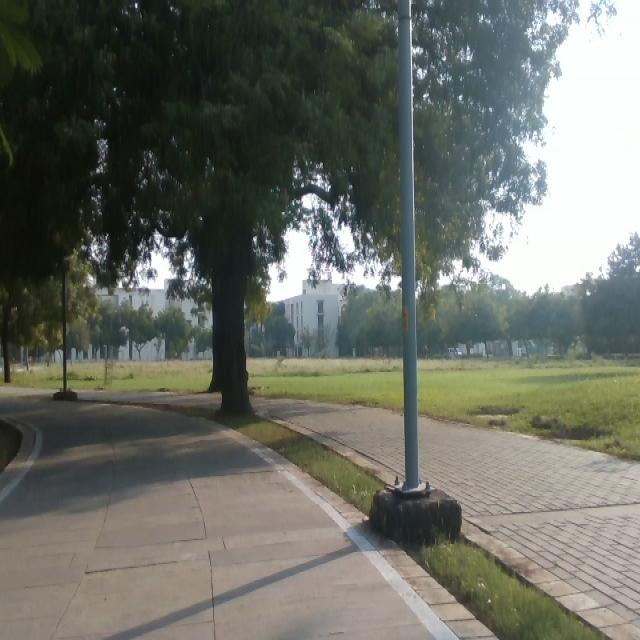lane: (1, 405, 429, 635)
